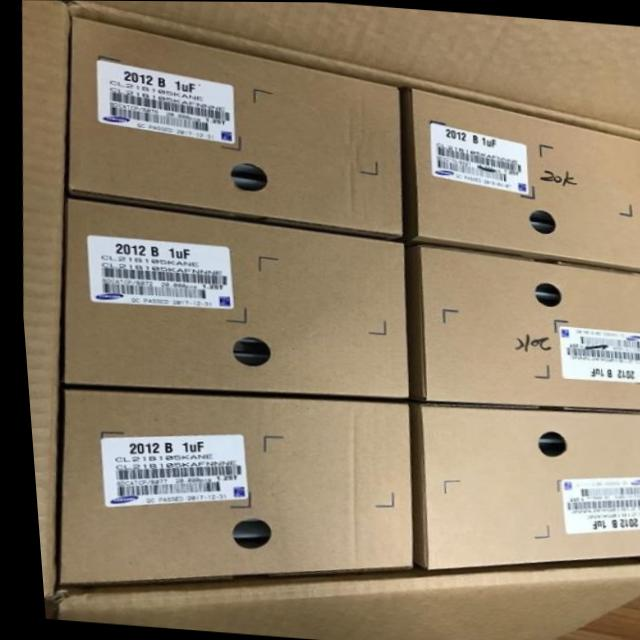box: (65, 18, 398, 236), (59, 199, 400, 399), (52, 390, 401, 585), (410, 90, 640, 270), (405, 405, 640, 570), (410, 247, 640, 411)
